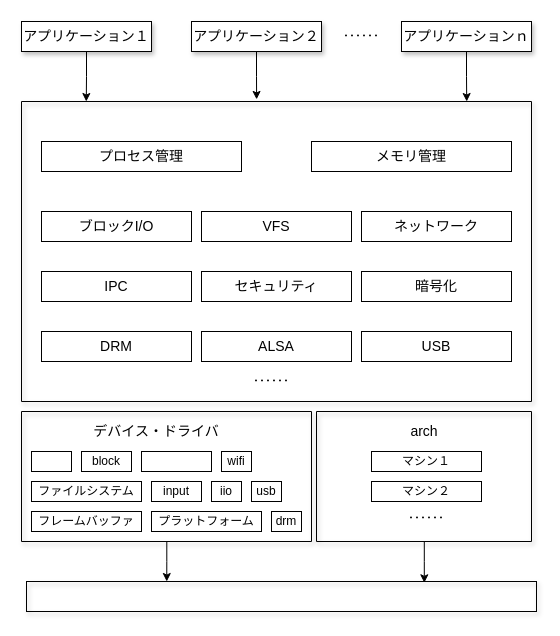
The diagram is 560 pixels wide and 636 high, and some of its shapes have lost their labels. The centre of each missing label's shape, as x and y in pixels:
"char" belongs at point 51,461.
"ethernet" belongs at point 176,461.
"ハードウェア" belongs at point 282,597.
